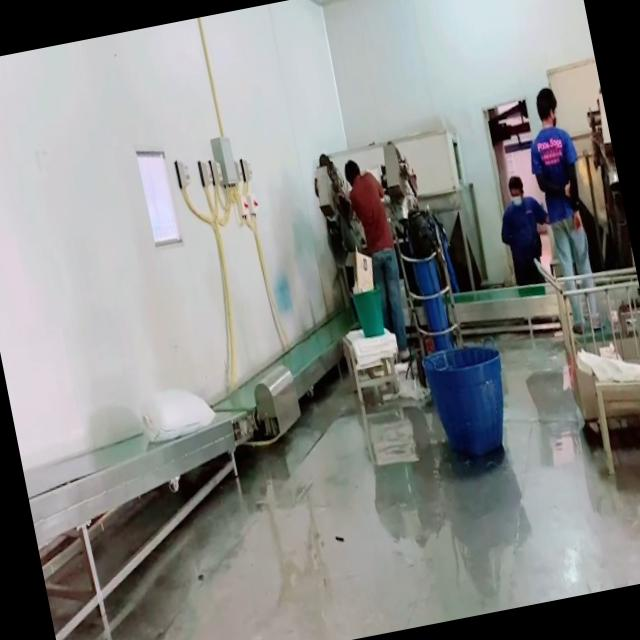ice-bag: (123, 373, 225, 452)
